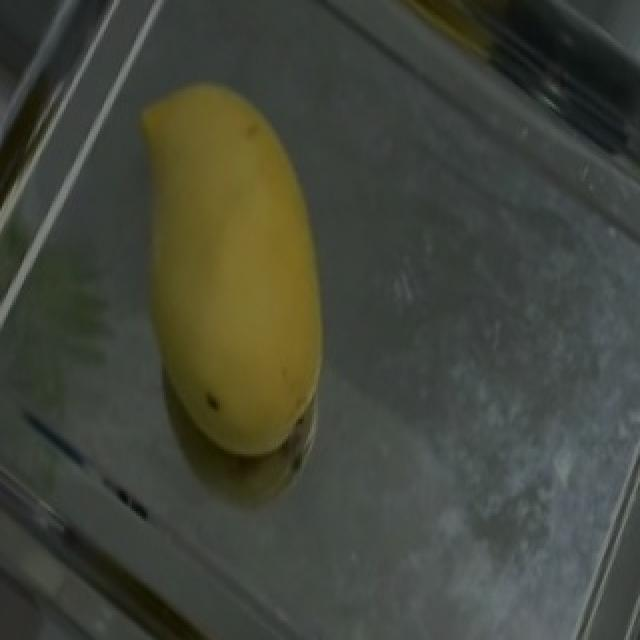fruit: (92, 42, 412, 447)
